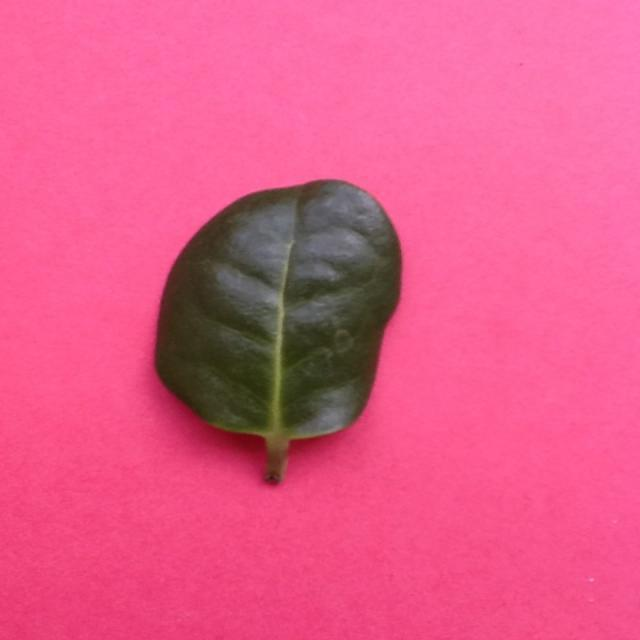foliage: (153, 176, 409, 488)
